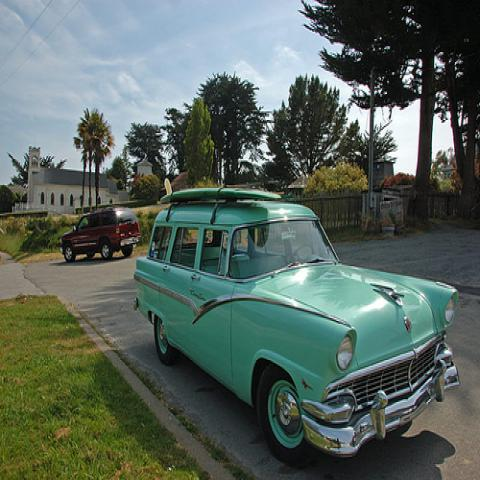car: (134, 182, 461, 452), (61, 212, 140, 256)
